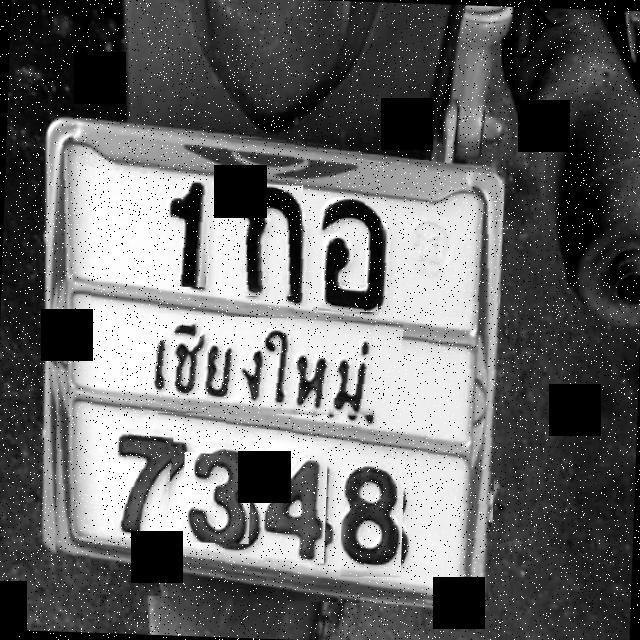letters: (225, 182, 302, 298), (309, 195, 382, 312), (336, 456, 404, 578), (262, 439, 328, 563), (113, 427, 174, 546), (148, 176, 212, 287), (182, 451, 252, 544)
license-plate: (53, 128, 504, 607)
province: (125, 312, 404, 422)
